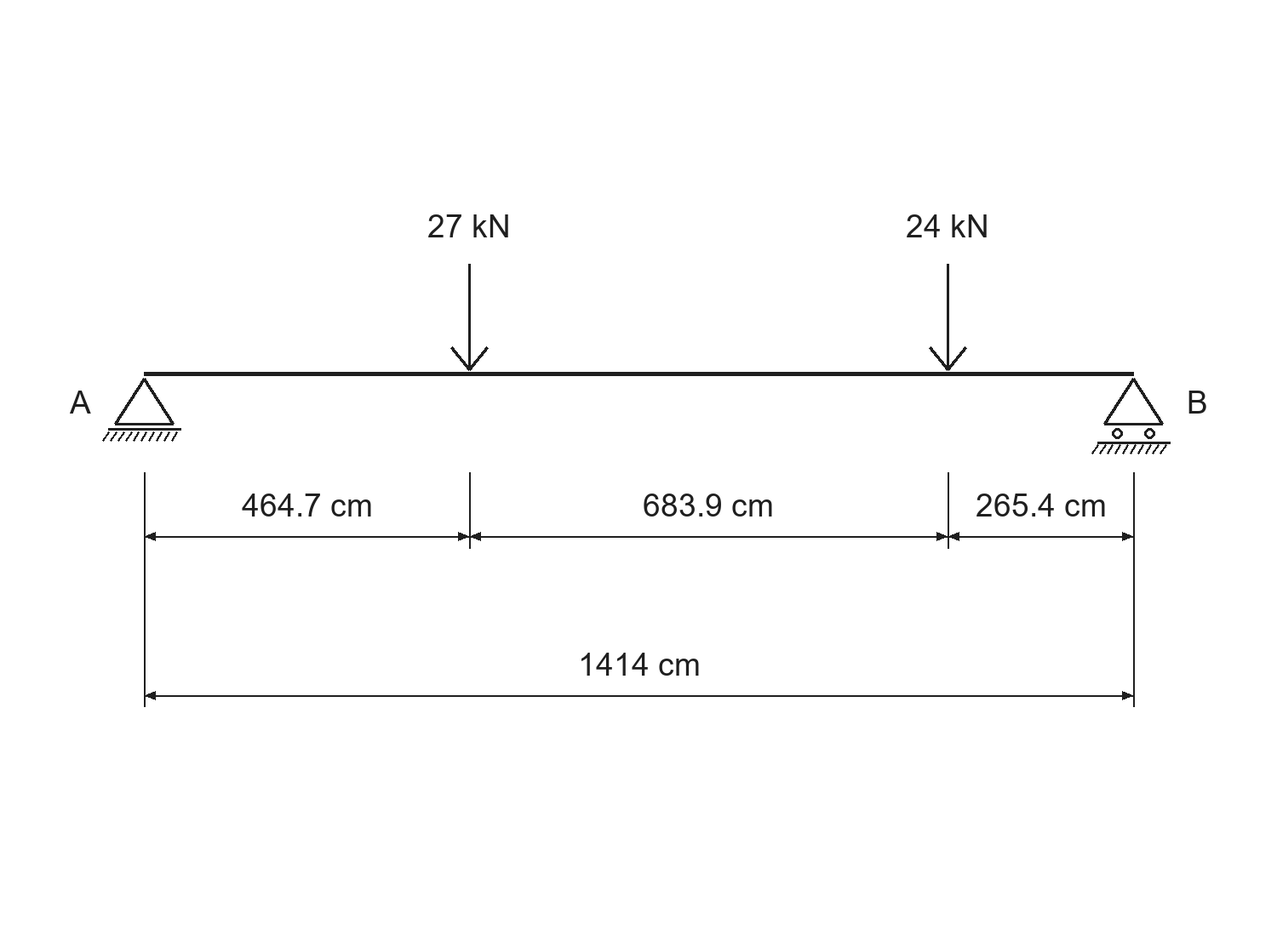pin_support: (102, 378, 181, 442)
point_load: (450, 264, 489, 371), (929, 264, 967, 371)
roller_support: (1091, 378, 1171, 454)
